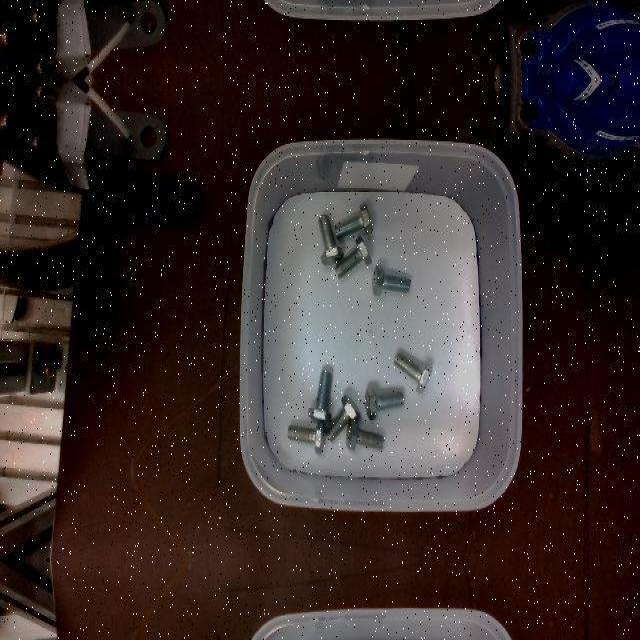screw: (324, 395, 360, 441), (393, 353, 432, 395), (334, 236, 371, 278), (334, 204, 372, 240), (318, 213, 343, 265), (287, 421, 325, 455), (364, 388, 404, 420), (307, 371, 332, 421), (372, 265, 411, 295), (345, 420, 383, 450)
